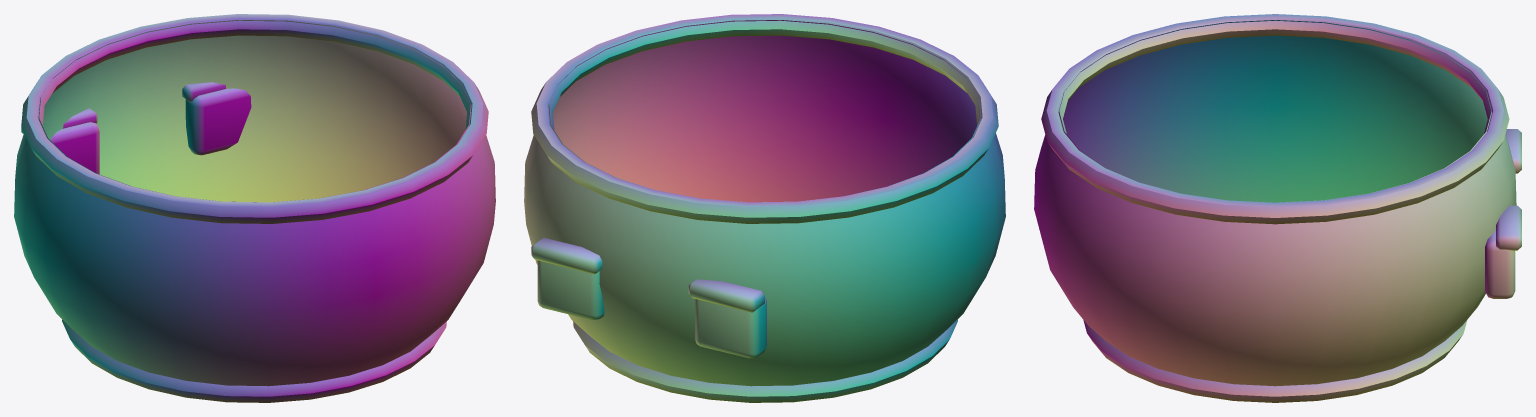
The model's file is acc_vest.glb.
3 renders of one model, left to right at view 1: azimuth 30°, elevation 25°; view 2: azimuth 150°, elevation 25°; view 3: azimuth 270°, elevation 25°, orthographic.
Parts seen in each view (by area): view 1: vest; view 2: vest; view 3: vest.
Part boxes in pixels (<box>): vest: <box>14,14,495,402</box>; vest: <box>524,14,1005,402</box>; vest: <box>1034,14,1521,402</box>.
Bounding box in the file's own units: 0.2232 × 0.1087 × 0.2256.
